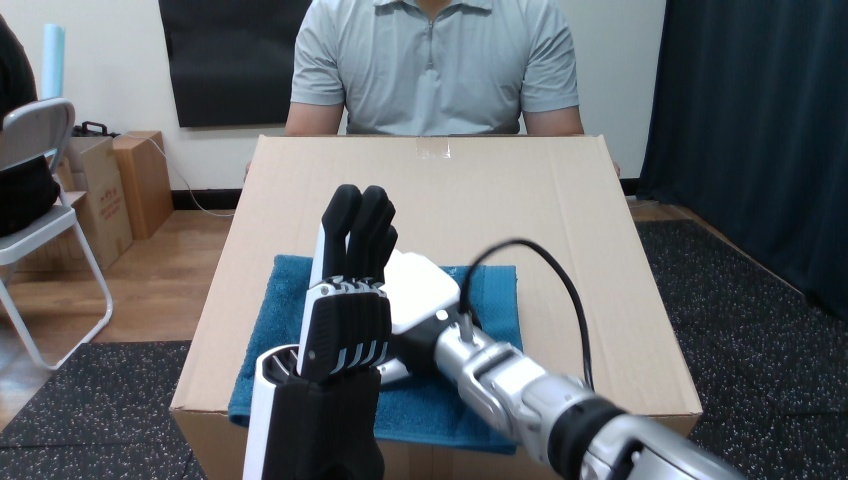left robot hand: (243, 185, 742, 479), (244, 184, 396, 478), (468, 244, 586, 382)
